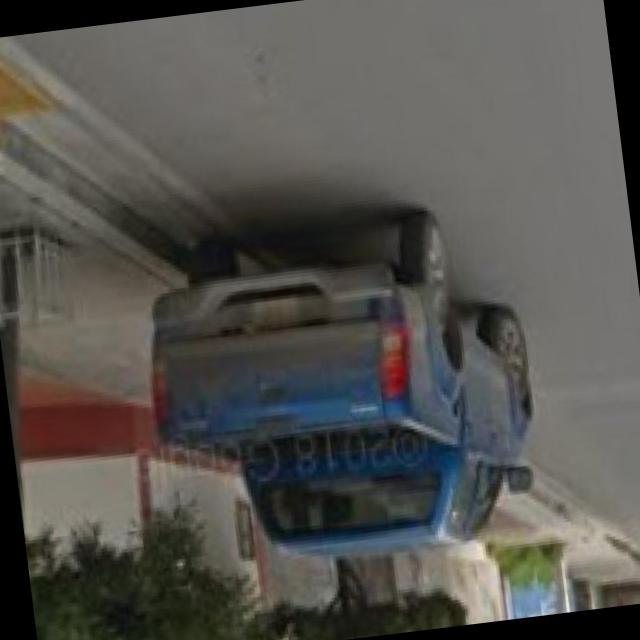car: (135, 188, 546, 578)
